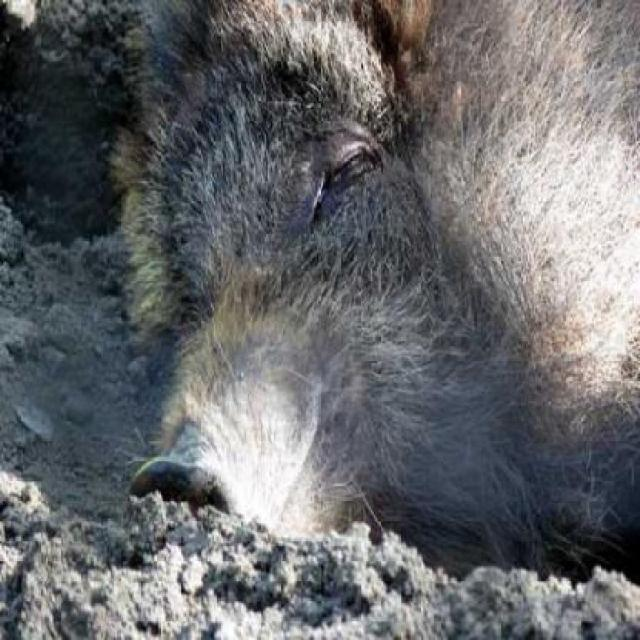Boar: (79, 11, 638, 578)
